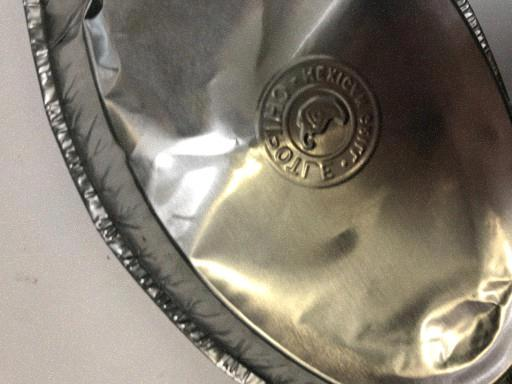metal: (5, 5, 511, 384)
